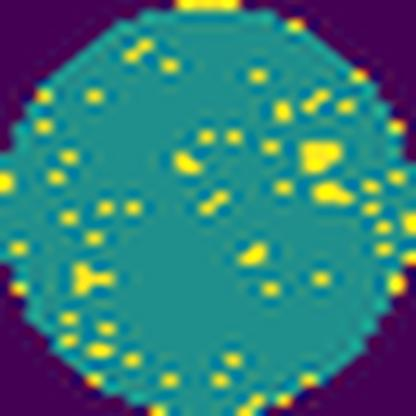Loc: (299, 141, 349, 179), (312, 184, 359, 210)
